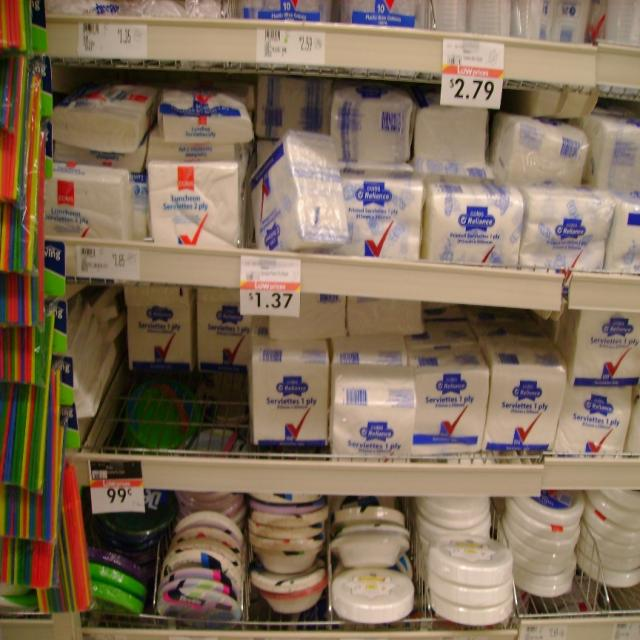q293: (251, 142, 347, 255), (405, 354, 489, 459), (250, 342, 334, 445), (424, 174, 520, 263), (338, 354, 411, 462), (520, 188, 614, 268), (493, 364, 571, 454), (350, 172, 420, 260), (126, 290, 198, 374), (570, 306, 640, 380), (574, 380, 633, 454)
